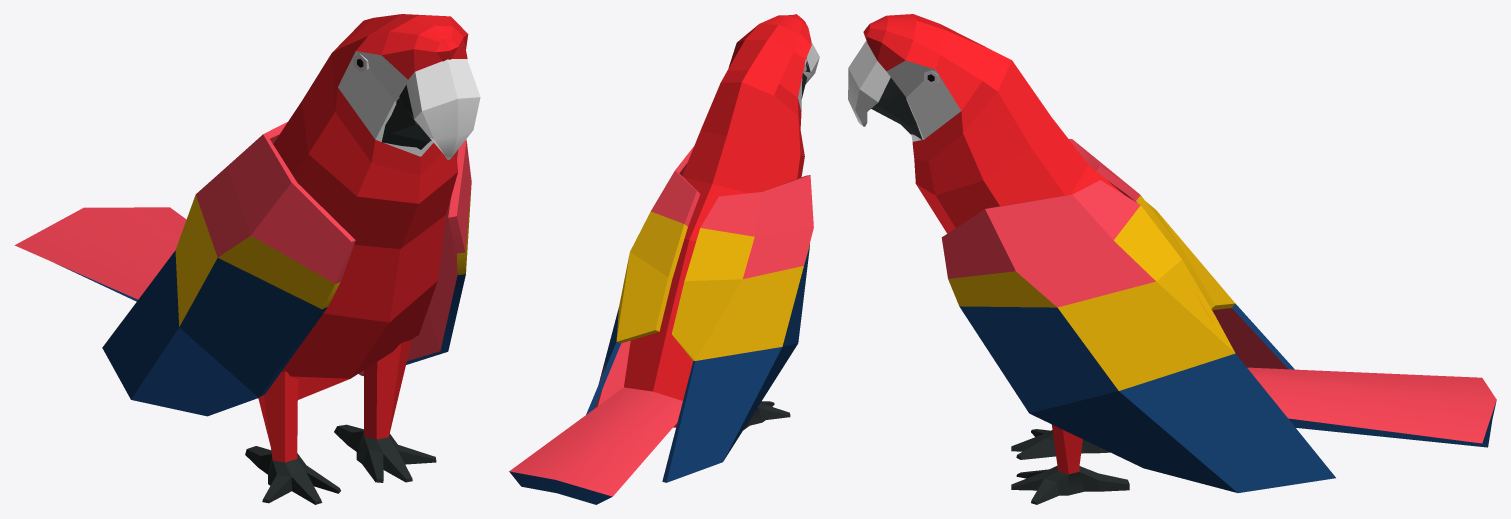
Rendered from 9916df1b-dd5d-4072-bda3-c120ae6e5917.glb.
3 views of the same model, side by side, from view 1: azimuth 30°, elevation 25°; view 2: azimuth 150°, elevation 25°; view 3: azimuth 270°, elevation 25° (orthographic). The views are drawn at different scales.
Visible parts, largest first — view 1: Geo_Parrot; view 2: Geo_Parrot; view 3: Geo_Parrot.
Boxes of the visible parts, <box> form: Geo_Parrot: <box>14,14,480,504</box>; Geo_Parrot: <box>509,14,819,504</box>; Geo_Parrot: <box>848,14,1496,504</box>.
Size of the model in its own units: 54.42 by 110 by 144.
Materials: 1 (1 with a texture image).
